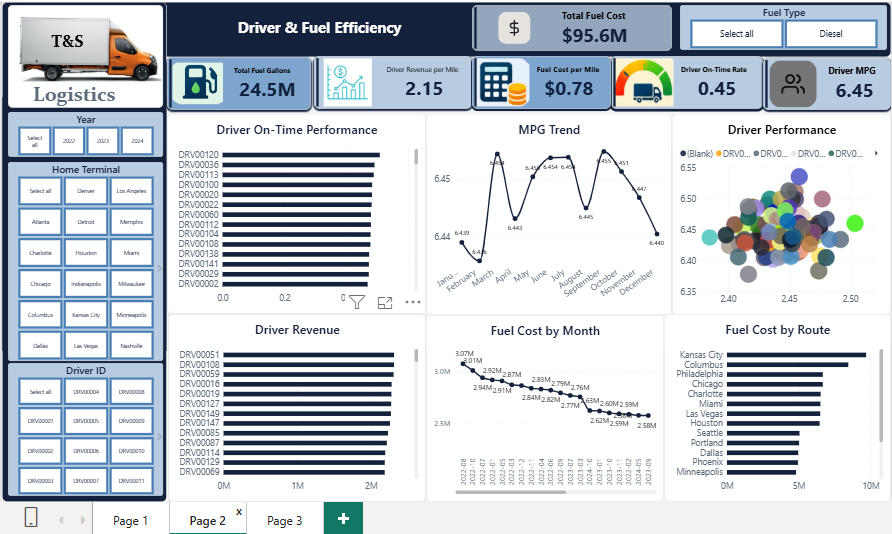

The page's visual inventory and layout, read from the dashboard file:
{"tool":"powerbi","page":{"name":"Page 2","canvas":[1920,1080],"ordinal":1},"visuals":[{"type":"shape","box":[32.4,0,1887.8,118.8],"z":0},{"type":"shape","box":[0,0,356.4,1080],"z":1000},{"type":"textbox","box":[356.4,6.5,658.8,110.2],"z":2000},{"type":"cardVisual","fields":{"Data":["drivers.Driver On-Time Rate"]},"box":[1315.4,116.6,328.3,114.5],"z":3000},{"type":"cardVisual","fields":{"Data":["drivers.Driver MPG"]},"box":[1643.8,121,276.5,112.3],"z":4000},{"type":"cardVisual","fields":{"Data":["drivers.Driver Revenue per Mile"]},"box":[673.9,116.6,341.3,114.5],"z":5000},{"type":"cardVisual","fields":{"Data":["DateTable.Total Fuel Gallons"]},"box":[356.4,118.8,311,114.5],"z":6000},{"type":"cardVisual","fields":{"Data":["DateTable.Total Fuel Cost"]},"box":[1015.2,6.5,432,99.4],"z":7000},{"type":"cardVisual","fields":{"Data":["DateTable.Fuel Cost per Mile"]},"box":[1015.2,116.6,300.2,114.5],"z":8000},{"type":"scatterChart","title":"Driver Performance","fields":{"Series":["drivers.driver_id"],"Size":["Sum(driver_monthly_metrics.total_miles)"],"X":["DateTable.Revenue per Mile"],"Y":["drivers.Driver MPG"]},"box":[1447.2,241.9,473,434.2],"z":9000},{"type":"barChart","title":"Driver On-Time Performance","fields":{"Category":["drivers.driver_id"],"Y":["drivers.Driver On-Time Rate"]},"box":[356.4,241.9,559.4,432],"z":10000},{"type":"barChart","title":"Driver Revenue","fields":{"Category":["drivers.driver_id"],"Y":["Sum(driver_monthly_metrics.total_revenue)"]},"box":[358.6,673.9,557.3,406.1],"z":11000},{"type":"lineChart","title":"MPG Trend","fields":{"Category":["driver_monthly_metrics.month.Variation.Date Hierarchy.Month"],"Y":["drivers.Driver MPG"]},"box":[915.8,241.9,531.4,434.2],"z":12000},{"type":"lineChart","title":"Fuel Cost by Month","fields":{"Category":["DateTable.Year Month"],"Y":["DateTable.Total Fuel Cost"]},"box":[915.8,676.1,514.1,403.9],"z":13000},{"type":"barChart","title":"Fuel Cost by Route","fields":{"Category":["routes.origin_city","routes.destination_city"],"Y":["DateTable.Total Fuel Cost"]},"box":[1429.9,673.9,490.3,406.1],"z":14000},{"type":"slicer","title":"Year","fields":{"Values":["DateTable.Year"]},"box":[13,237.6,334.8,97.2],"z":15000},{"type":"slicer","title":"Driver ID","fields":{"Values":["drivers.driver_id"]},"box":[13,779.8,334.8,287.3],"z":16000},{"type":"slicer","title":"Fuel Type","fields":{"Values":["trucks.fuel_type"]},"box":[1464.5,6.5,447.1,97.2],"z":17000},{"type":"slicer","title":"Home Terminal","fields":{"Values":["drivers.home_terminal"]},"box":[13,345.6,334.8,429.8],"z":18000},{"type":"image","box":[13,6.5,334.8,222.5],"z":19000},{"type":"textbox","box":[67,172.8,226.8,69.1],"z":20000},{"type":"textbox","box":[32.4,60.5,218.2,112.3],"z":21000}]}

Visuals, with their boxes on the page's 1920x1080 design canvas (x1, y1, x2, y2). These are canvas units, not pixel positions in the 892x534 screenshot, which may show the page scaled, cropped or inside an application window:
shape: detection(32, 0, 1920, 119)
shape: detection(0, 0, 356, 1080)
textbox: detection(356, 6, 1015, 117)
cardVisual - drivers.Driver On-Time Rate: detection(1315, 117, 1644, 231)
cardVisual - drivers.Driver MPG: detection(1644, 121, 1920, 233)
cardVisual - drivers.Driver Revenue per Mile: detection(674, 117, 1015, 231)
cardVisual - DateTable.Total Fuel Gallons: detection(356, 119, 667, 233)
cardVisual - DateTable.Total Fuel Cost: detection(1015, 6, 1447, 106)
cardVisual - DateTable.Fuel Cost per Mile: detection(1015, 117, 1315, 231)
"Driver Performance" scatterChart: detection(1447, 242, 1920, 676)
"Driver On-Time Performance" barChart: detection(356, 242, 916, 674)
"Driver Revenue" barChart: detection(359, 674, 916, 1080)
"MPG Trend" lineChart: detection(916, 242, 1447, 676)
"Fuel Cost by Month" lineChart: detection(916, 676, 1430, 1080)
"Fuel Cost by Route" barChart: detection(1430, 674, 1920, 1080)
"Year" slicer: detection(13, 238, 348, 335)
"Driver ID" slicer: detection(13, 780, 348, 1067)
"Fuel Type" slicer: detection(1464, 6, 1912, 104)
"Home Terminal" slicer: detection(13, 346, 348, 775)
image: detection(13, 6, 348, 229)
textbox: detection(67, 173, 294, 242)
textbox: detection(32, 60, 251, 173)
